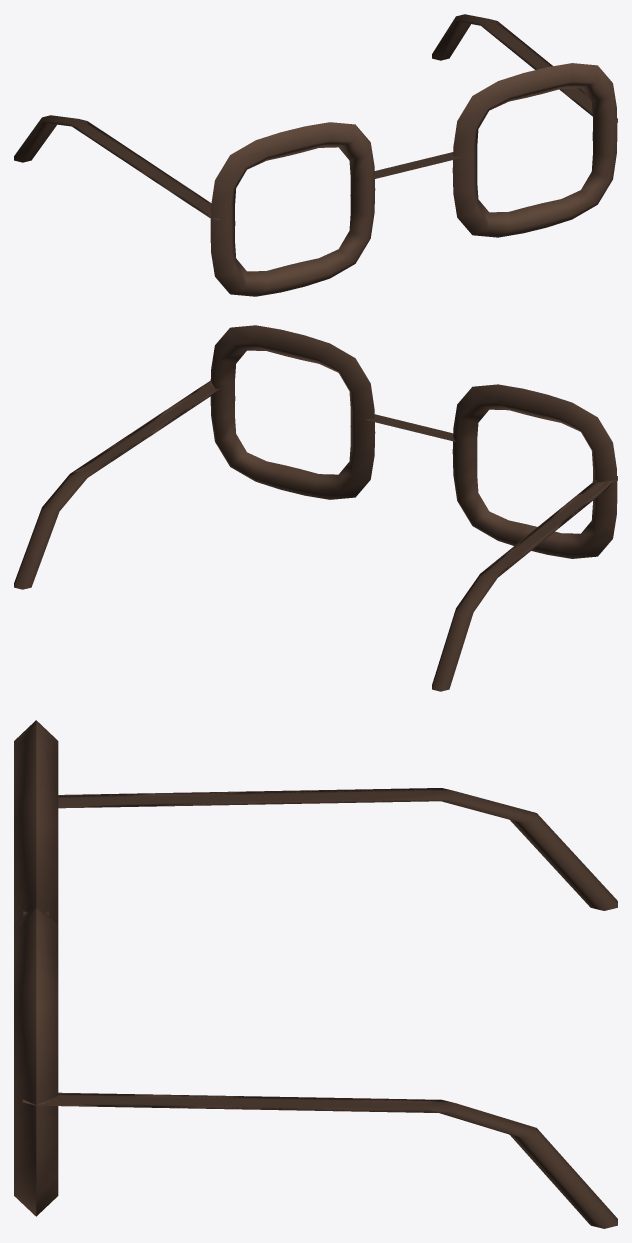
File: glasses_square.fbx
The picture shows the model from 3 angles, top to bottom: view 1: azimuth 30°, elevation 25°; view 2: azimuth 150°, elevation 25°; view 3: azimuth 270°, elevation 25°; orthographic projection. The views are drawn at different scales.
Visible parts, largest first — view 1: glasses_square; view 2: glasses_square; view 3: glasses_square.
Part boxes in pixels (x1,y1,x2,y2): glasses_square: (14,14,617,296); glasses_square: (14,325,617,691); glasses_square: (14,720,617,1228).
Bounding box in the file's own units: 15.87 × 5.58 × 12.23.
